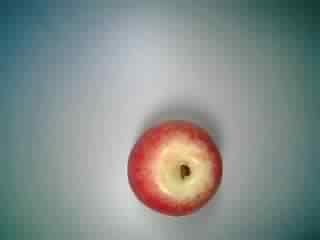apple: (121, 121, 228, 225)
